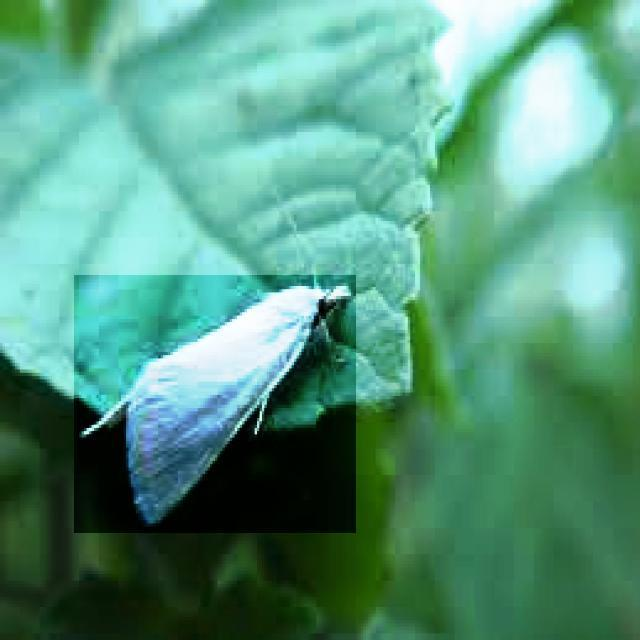stem-borer: (75, 276, 357, 534)
